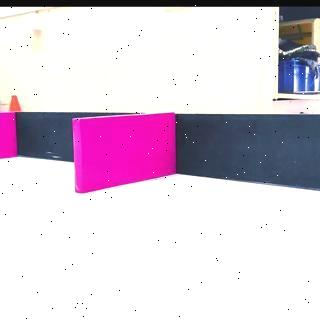xparking: (76, 118, 175, 190), (0, 113, 16, 157)
